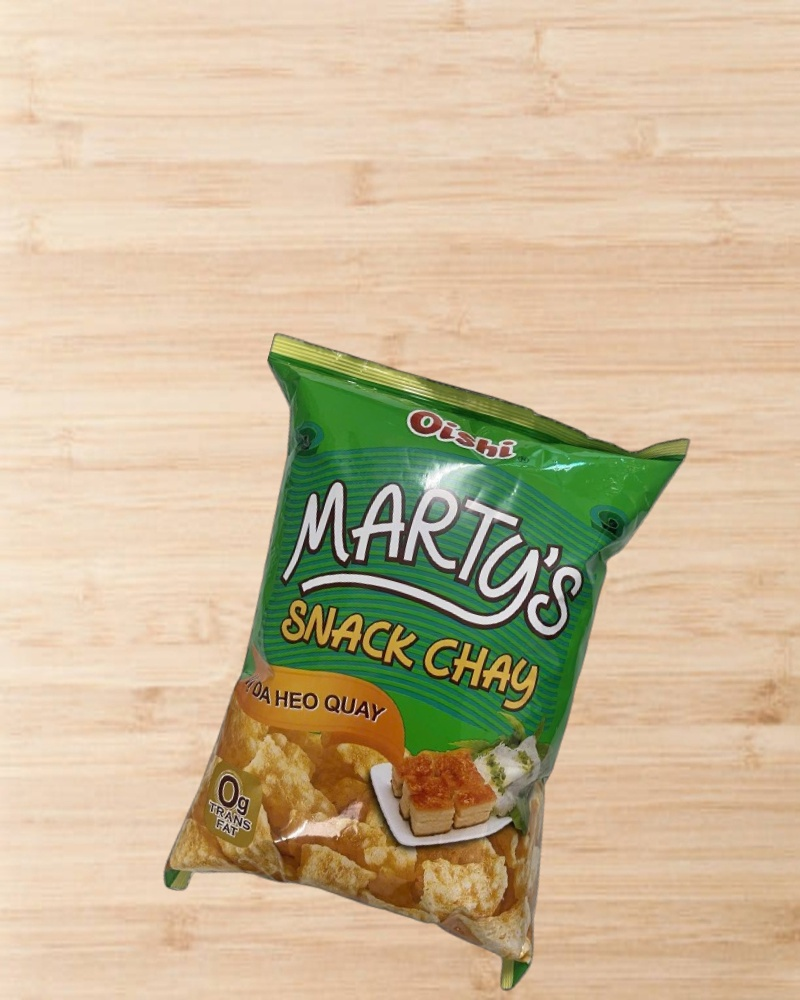Snack chay: (126, 329, 691, 1000)
